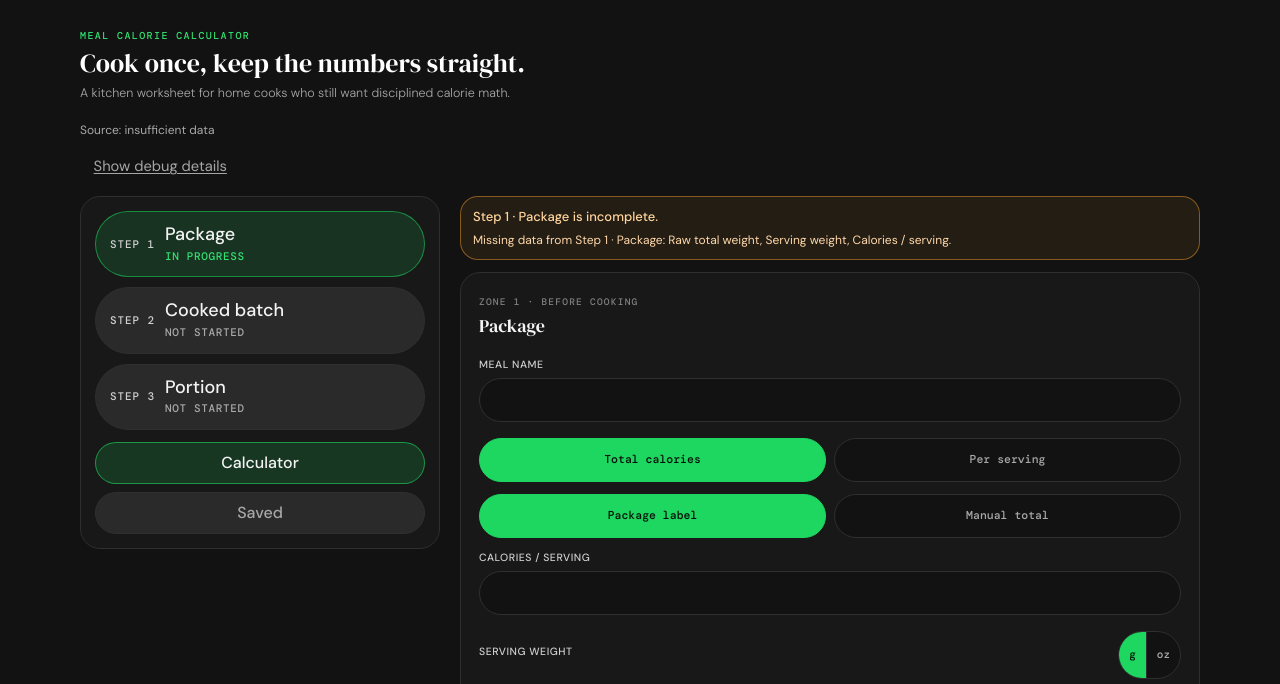
Test: ZoneLayout › renders shelf meal cards when meals are provided
Click the button "Saved". click: (260, 513)
box: [95, 492, 425, 534]
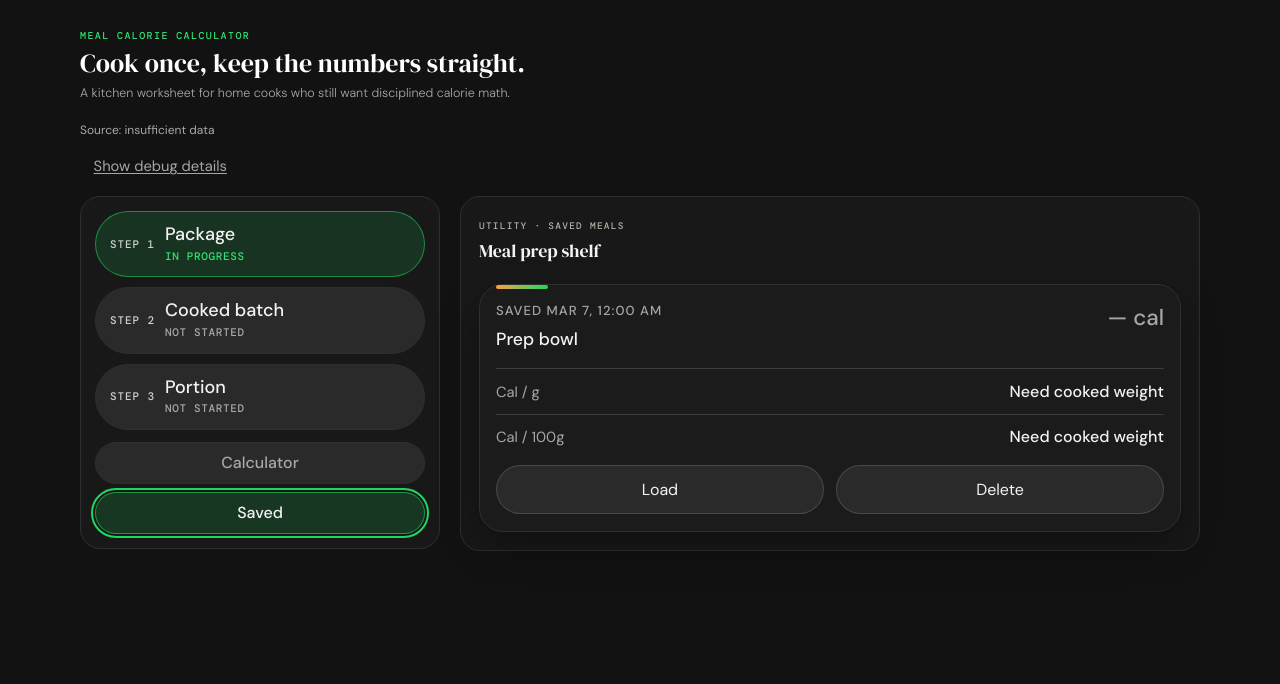
Check: the element with test id "saved-meal-card-meal-1" is shown, box [479, 284, 1181, 532]
